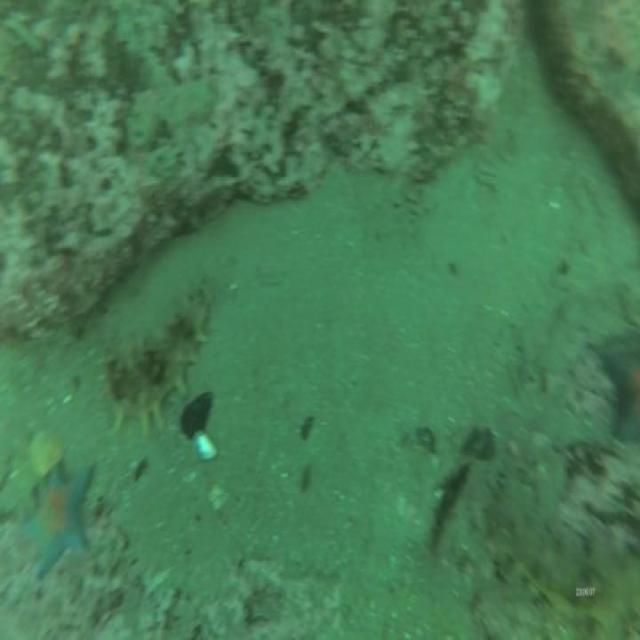holothurian: (102, 281, 214, 441), (514, 540, 640, 640)
starfish: (21, 455, 97, 582)
